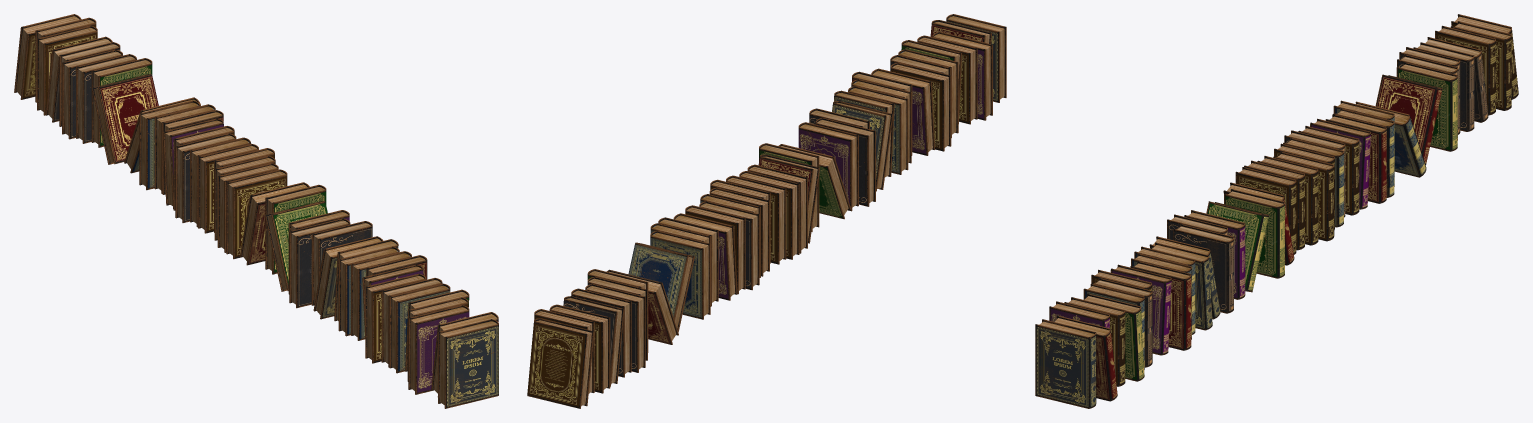
The model's file is Prop_Book_All_x1.fbx.
3 renders of one model, left to right at view 1: azimuth 30°, elevation 25°; view 2: azimuth 150°, elevation 25°; view 3: azimuth 330°, elevation 25°, orthographic.
Visible parts, largest first — view 1: Prop_Book_All_x1; view 2: Prop_Book_All_x1; view 3: Prop_Book_All_x1.
Part boxes in pixels (x1=…): Prop_Book_All_x1: x1=14, y1=14, x2=498, y2=408; Prop_Book_All_x1: x1=527, y1=14, x2=1006, y2=408; Prop_Book_All_x1: x1=1035, y1=14, x2=1518, y2=408.
Bounding box in the file's own units: 15.6 × 14.67 × 153.
